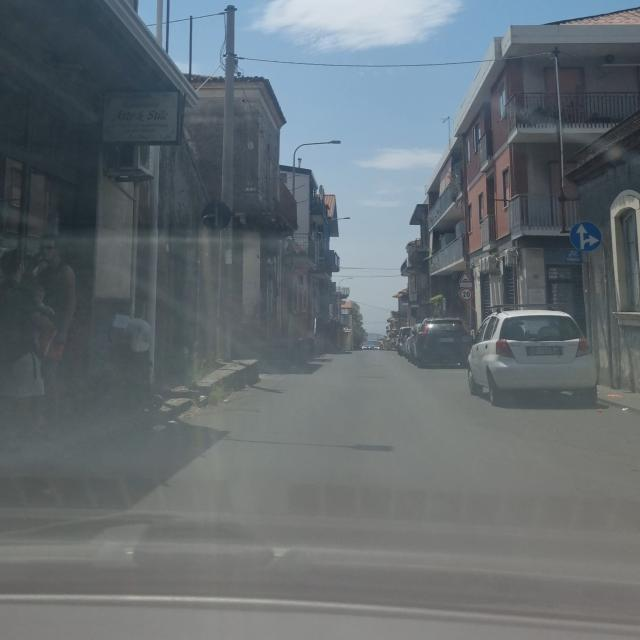forb_speed_over_20: (460, 287, 474, 302)
